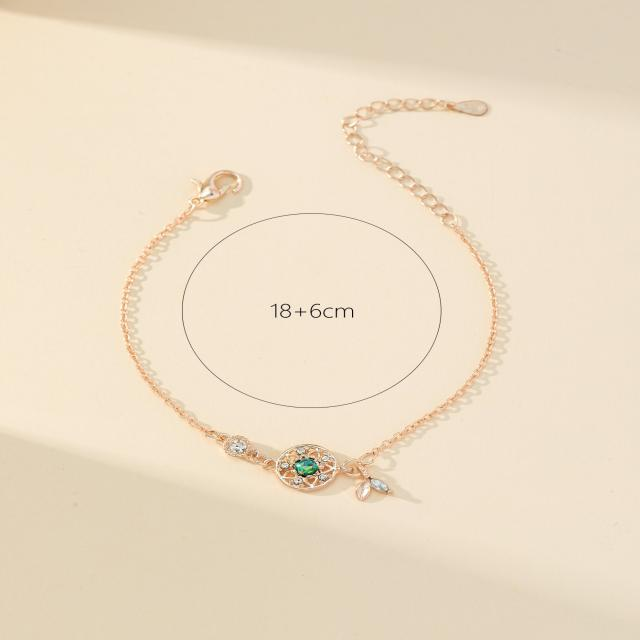bracelet: (72, 23, 552, 536)
